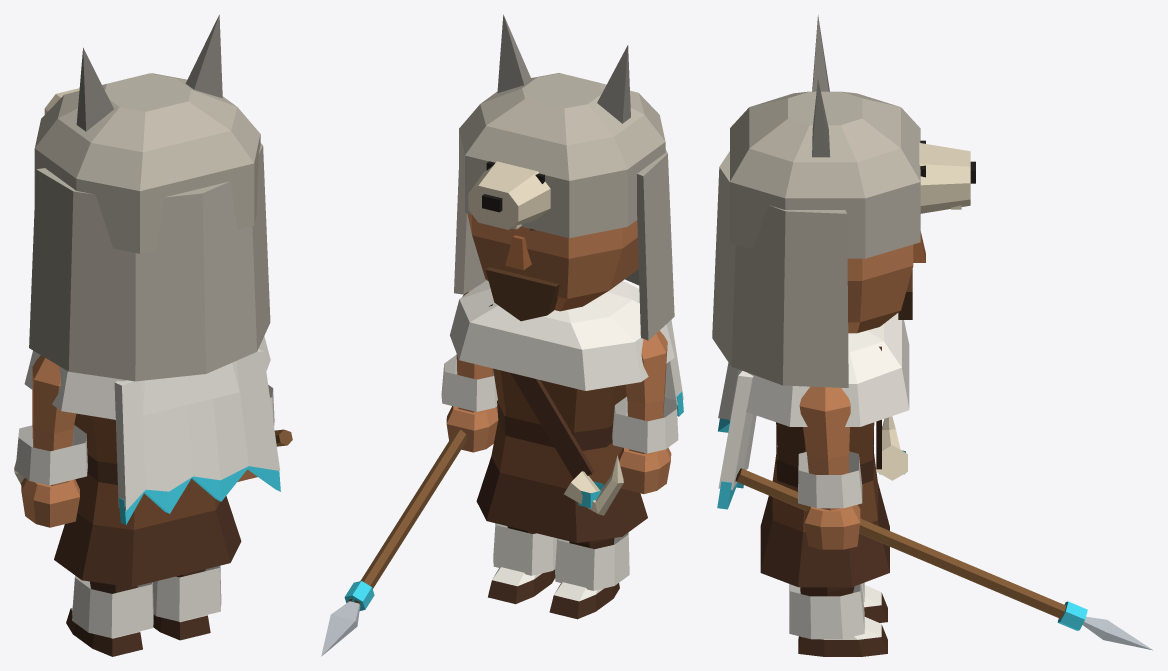
The model's file is CH_Beastmaster_WinterHunter.fbx.
The picture shows the model from 3 angles, left to right: view 1: azimuth 30°, elevation 25°; view 2: azimuth 150°, elevation 25°; view 3: azimuth 270°, elevation 25°; orthographic projection. The views are drawn at different scales.
Parts seen in each view (by area): view 1: Head, Body, ArmL, LegL, LegR, ArmR; view 2: Head, Body, ArmR, ArmL, LegL, LegR; view 3: Head, Body, ArmR, LegR, LegL.
Boxes of the visible parts, x1,y1,x2,y2 form: Head: (29, 14, 270, 381); Body: (14, 336, 280, 587); ArmL: (15, 355, 87, 527); LegL: (66, 575, 153, 656); LegR: (153, 566, 221, 640); ArmR: (237, 385, 292, 481); Head: (454, 14, 674, 340); Body: (450, 280, 683, 542); ArmR: (321, 289, 498, 656); ArmL: (612, 330, 678, 493); LegL: (549, 532, 629, 619); LegR: (488, 523, 557, 604); Head: (712, 15, 975, 387); Body: (717, 313, 909, 587); ArmR: (735, 386, 1152, 650); LegR: (789, 584, 887, 656); LegL: (789, 582, 887, 622).
Size of the model in its own units: 0.762 by 1.23 by 1.8.
